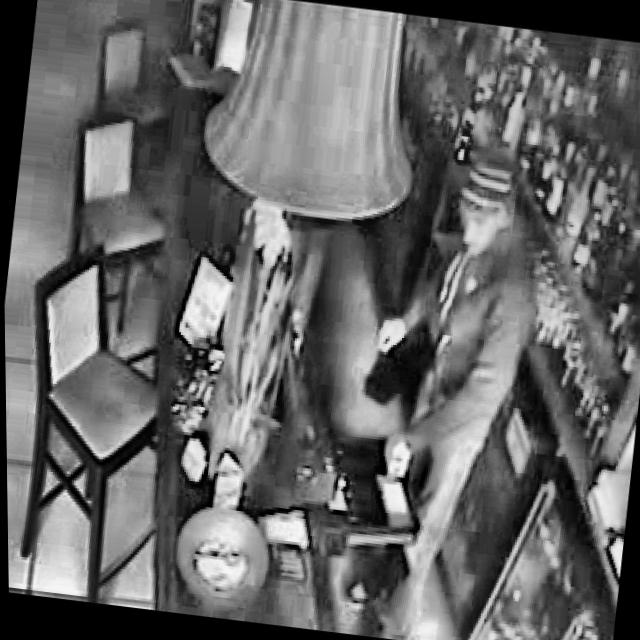burglary: (321, 122, 564, 630)
